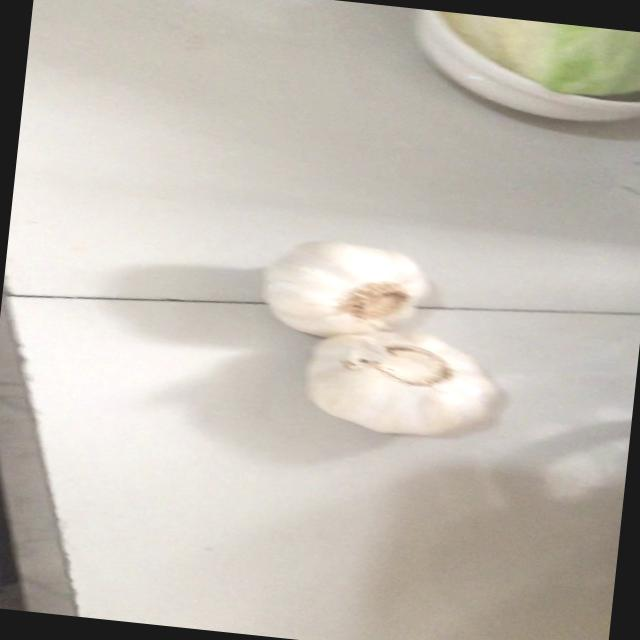garlic: (296, 318, 504, 446), (248, 232, 441, 348)
